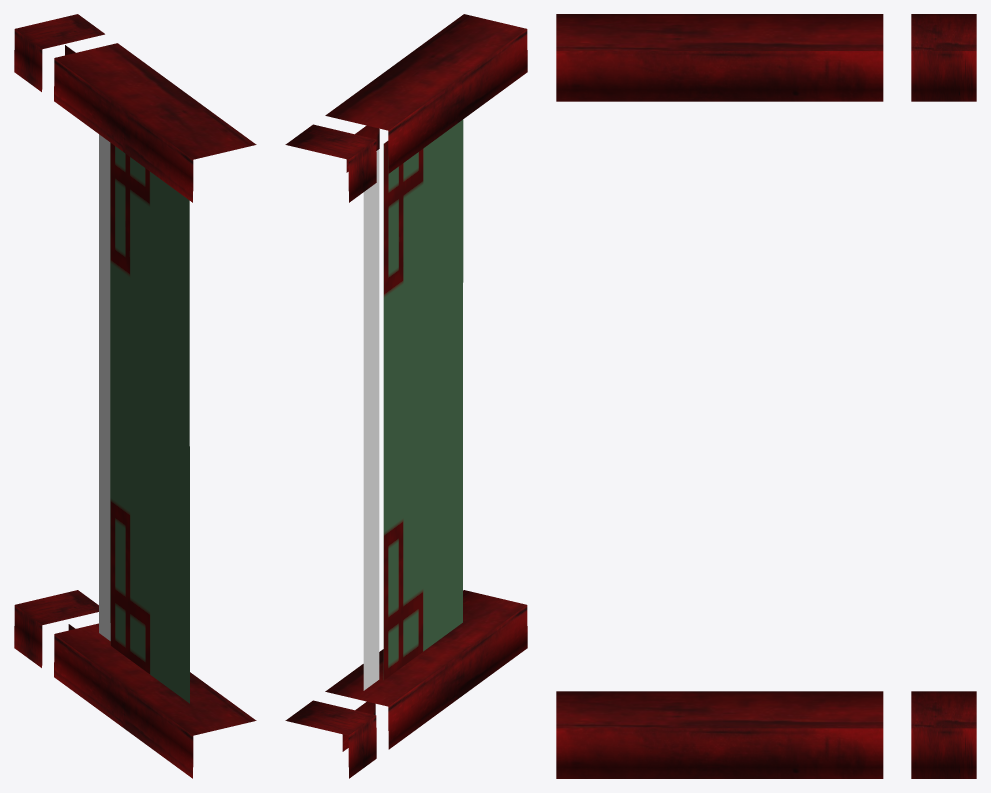
Rendered from limit_LOD90.glb.
3 renders of one model, left to right at view 1: azimuth 30°, elevation 25°; view 2: azimuth 150°, elevation 25°; view 3: azimuth 270°, elevation 25°, orthographic. The views are drawn at different scales.
Parts seen in each view (by area): view 1: detailJapan.png__, JapanwoodBridge.jpg__, stktex_generic_WoodA.png__; view 2: detailJapan.png__, JapanwoodBridge.jpg__, stktex_generic_WoodA.png__; view 3: JapanwoodBridge.jpg__.
Part boxes in pixels (left/top/right/bottom): detailJapan.png__: left=110, top=142, right=189, bottom=703; JapanwoodBridge.jpg__: left=14, top=14, right=256, bottom=778; stktex_generic_WoodA.png__: left=99, top=134, right=110, bottom=640; detailJapan.png__: left=383, top=119, right=463, bottom=679; JapanwoodBridge.jpg__: left=285, top=14, right=527, bottom=778; stktex_generic_WoodA.png__: left=363, top=149, right=379, bottom=690; JapanwoodBridge.jpg__: left=556, top=14, right=976, bottom=778.
Bounding box in the file's own units: 0.4621 × 4.3 × 2.25.
3 materials, 2 textured.
